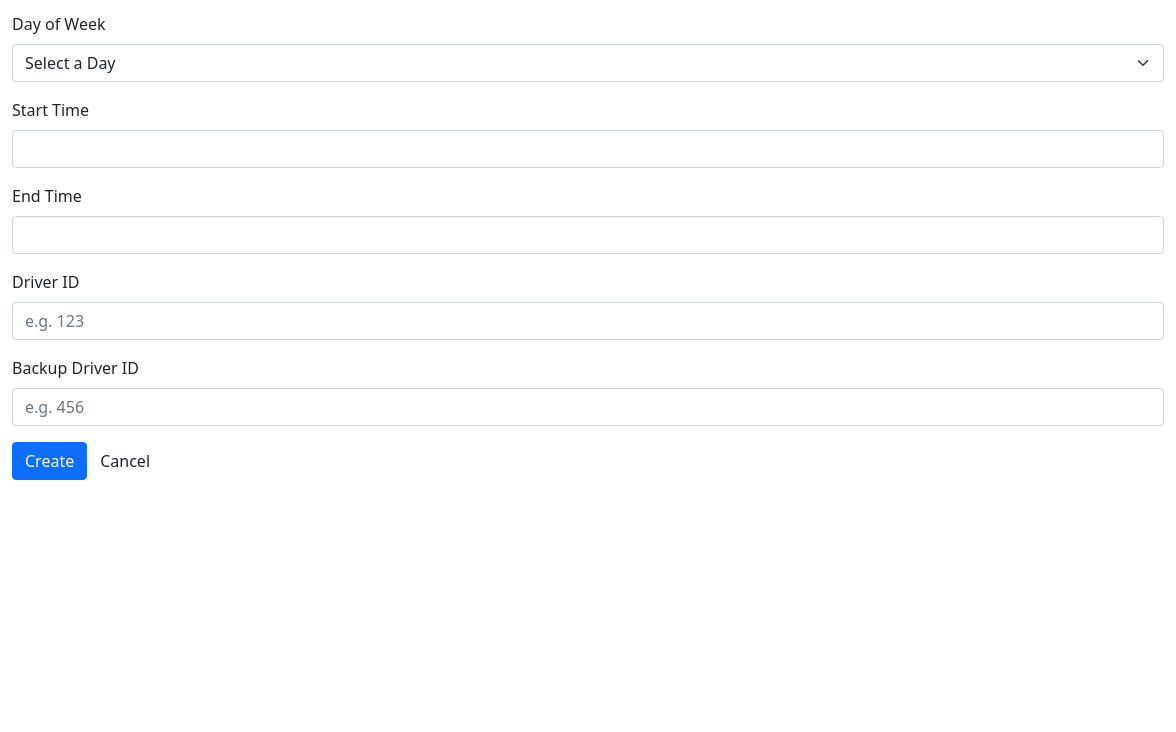
ShiftForm tests › Correct Error messages on missing input
Click the button with test id "ShiftForm-submit" at (50, 461), box 12,442 -> 87,480
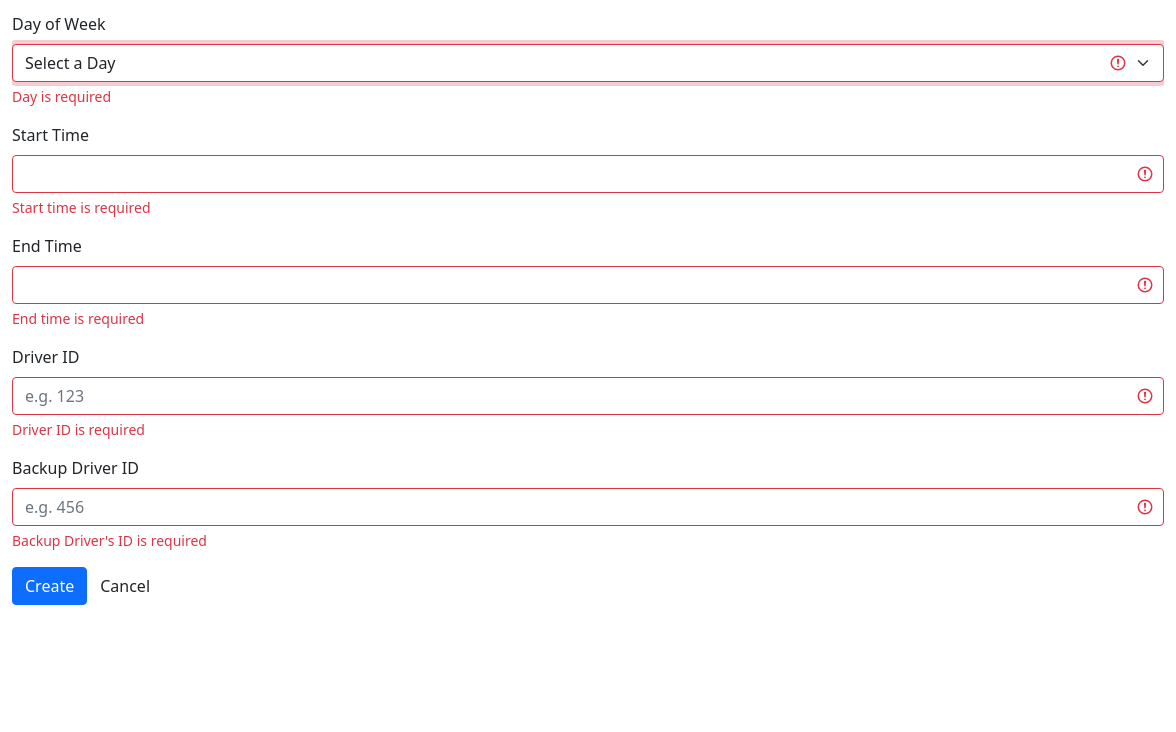
Expected: the text "Day is required" is shown, 12,87 -> 111,106
